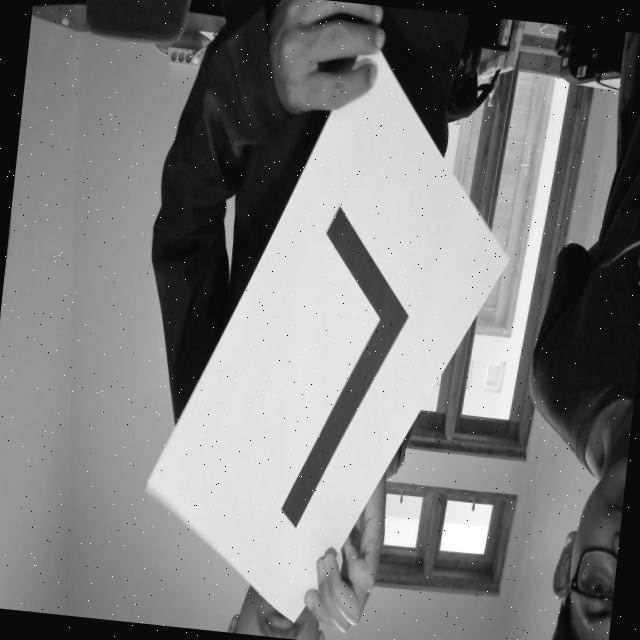l: (246, 164, 434, 546)
